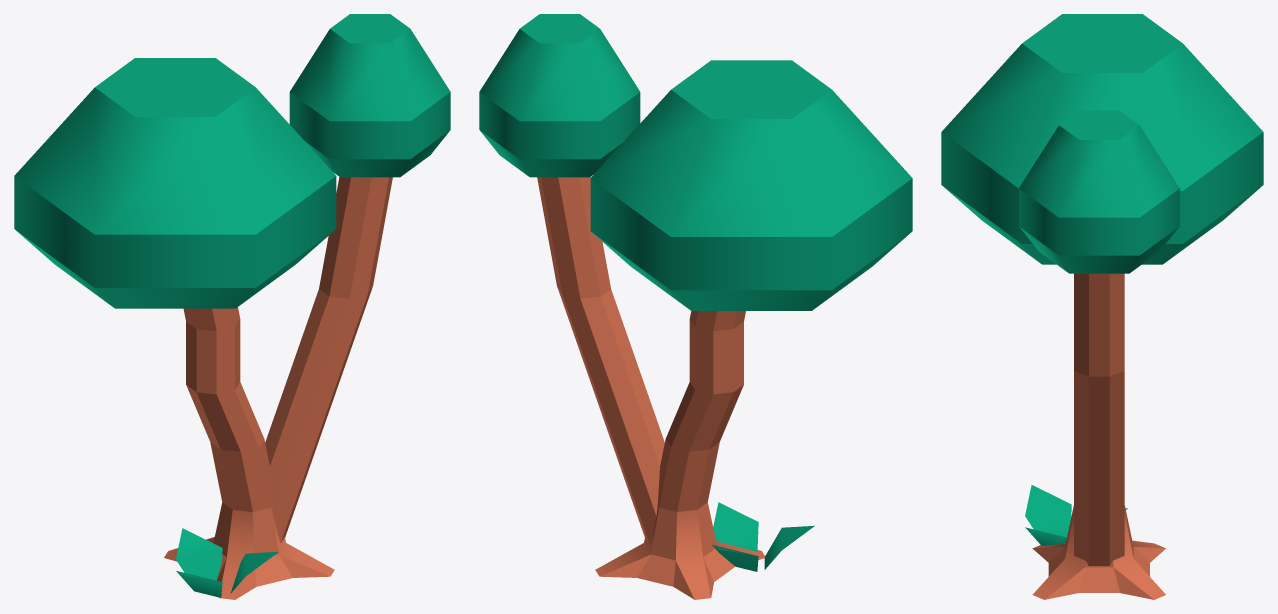
Rendered from Terrain_Tree_1.fbx.
3 renders of one model, left to right at view 1: azimuth 30°, elevation 25°; view 2: azimuth 150°, elevation 25°; view 3: azimuth 270°, elevation 25°, orthographic.
Parts seen in each view (by area): view 1: mergedBlocks; view 2: mergedBlocks; view 3: mergedBlocks.
Boxes of the visible parts, x1,y1,x2,y2 form: mergedBlocks: [14, 14, 450, 599]; mergedBlocks: [479, 14, 912, 599]; mergedBlocks: [941, 14, 1263, 599].
Size of the model in its own units: 31 by 40 by 23.09.
